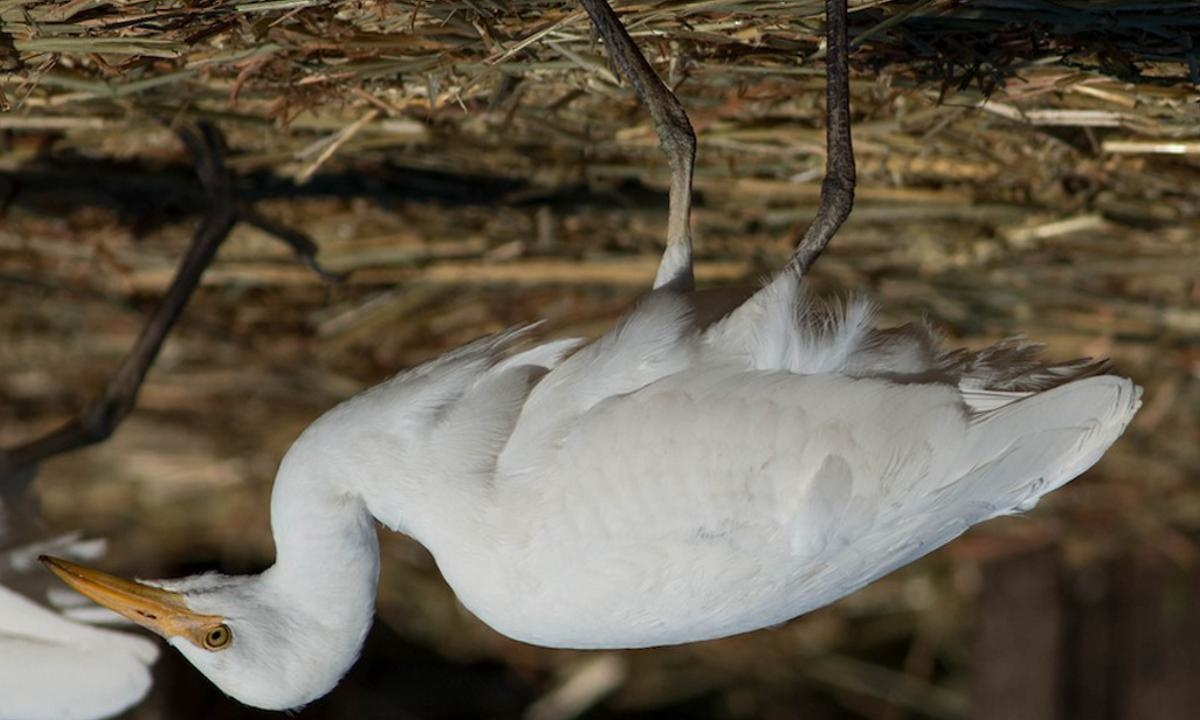egret: (21, 1, 1156, 716)
